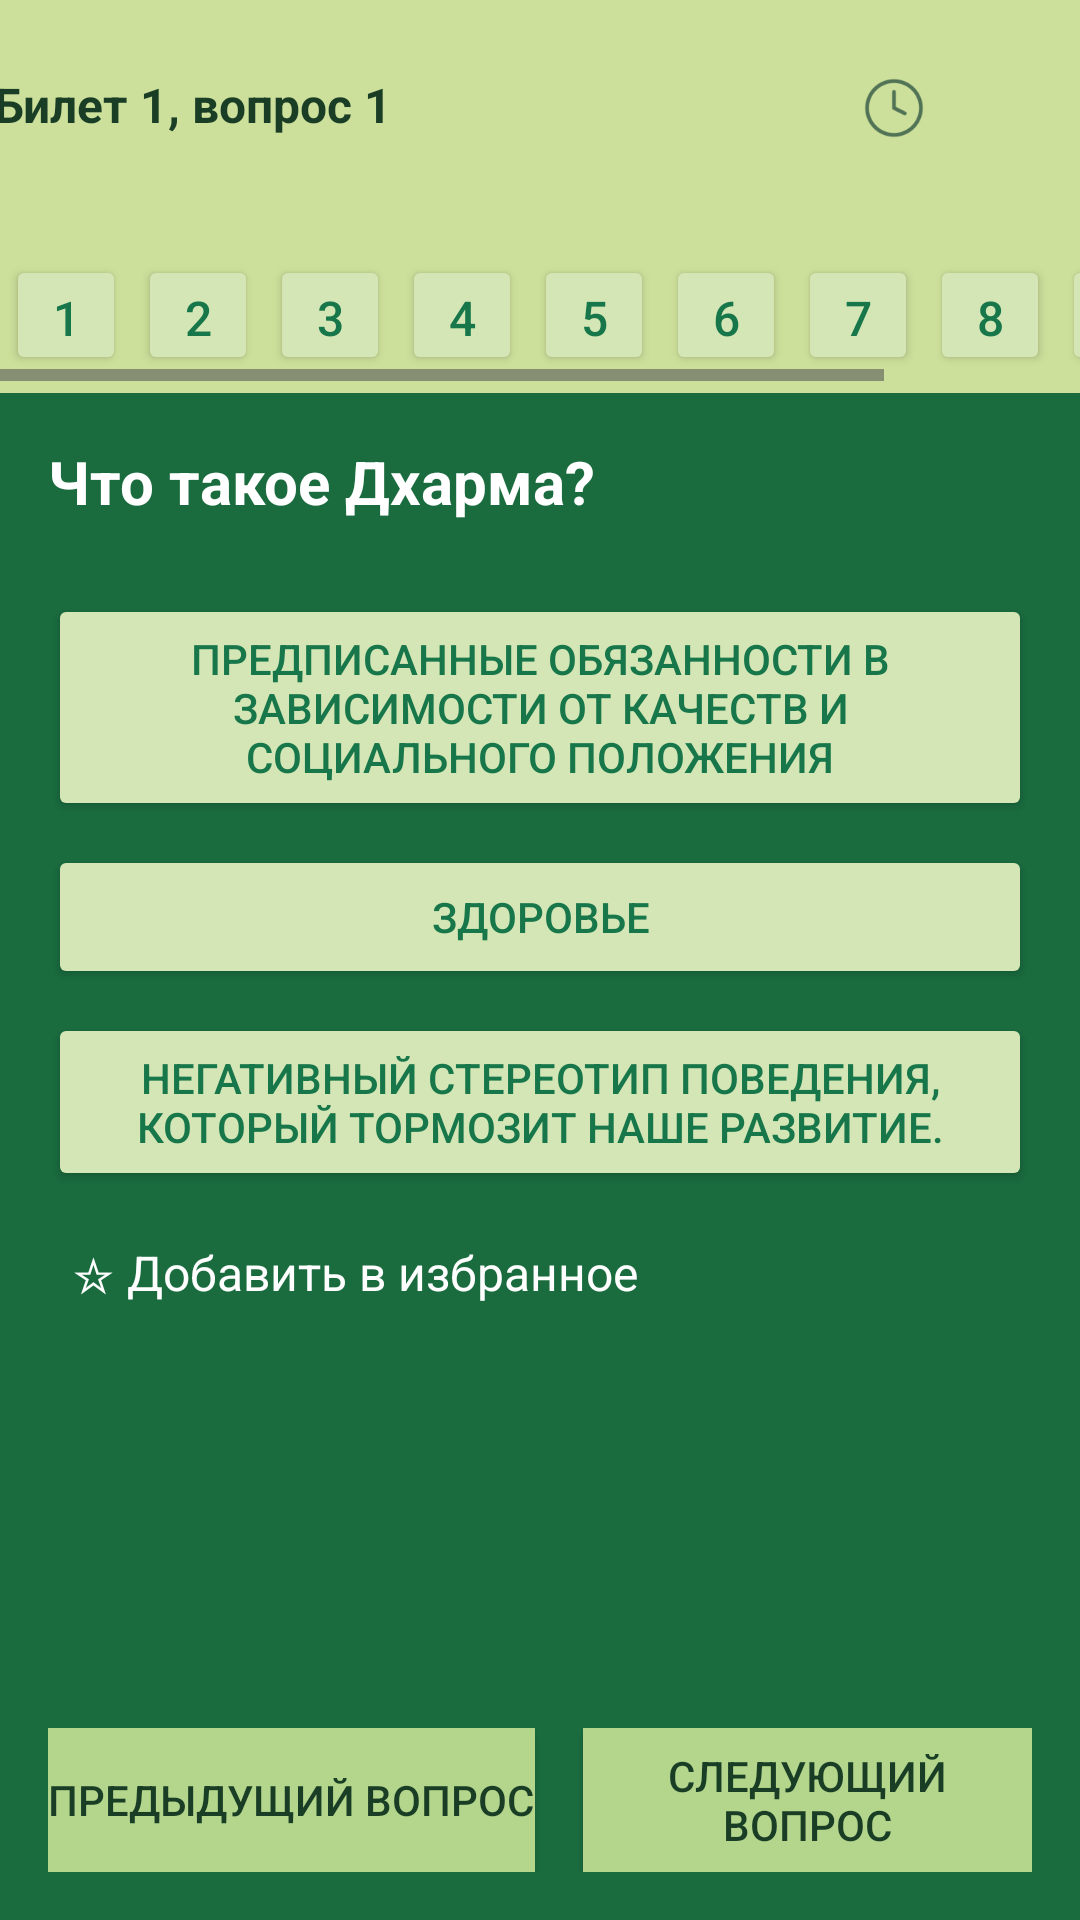

Icon bounding boxes for this 1080×1920 phone screenshot, format (x1, y1, x2, y2):
clock: (865, 79, 923, 137)
